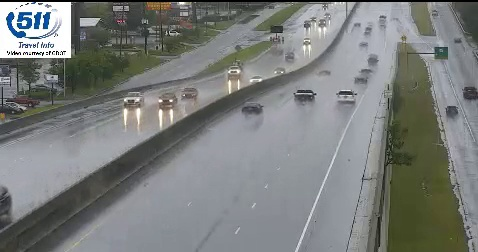car: (293, 89, 315, 105), (337, 90, 355, 104), (242, 103, 262, 115)
